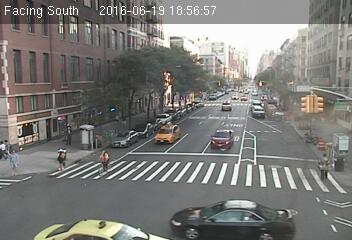neg: (248, 144, 274, 178), (262, 78, 287, 111), (27, 178, 50, 209), (127, 85, 149, 113), (93, 144, 114, 173), (308, 40, 327, 66), (204, 50, 223, 76), (155, 44, 173, 68), (209, 112, 226, 135), (147, 205, 163, 227), (19, 41, 35, 62), (77, 207, 93, 228), (159, 167, 173, 186), (56, 71, 69, 88), (96, 56, 108, 72), (221, 203, 232, 217)
pos: (312, 149, 337, 182), (48, 144, 72, 176), (57, 122, 77, 149), (4, 150, 21, 172)
